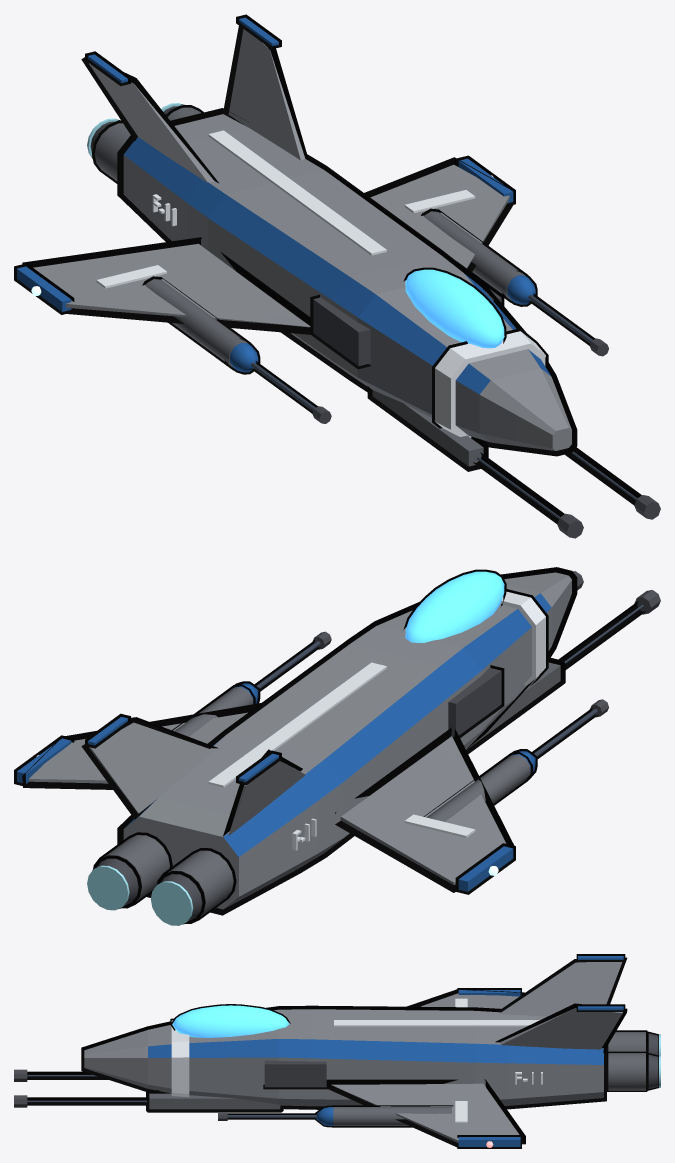
The model's file is Plane_FighterHeavy.fbx.
3 renders of one model, top to bottom at view 1: azimuth 30°, elevation 25°; view 2: azimuth 150°, elevation 25°; view 3: azimuth 270°, elevation 25°, orthographic. The views are drawn at different scales.
Visible parts, largest first — view 1: Hull, Wing-1, Wing1, Fin1, Canopy, Fin-1, NoseBand, Spine, Pod-1, GunHouse-1, Intake-1, Pod1 (+9 smaller); view 2: Hull, Wing-1, Fin1, Canopy, Wing1, Spine, Pod-1, Intake-1, Fin-1, Eng-1_Body, Eng1_Body, GunHouse-1 (+14 smaller); view 3: Hull, Wing1, Fin-1, Fin1, Canopy, GunHouse1, Pod1, Intake1, Eng1_Body, Spine, NoseBand, Wing-1 (+10 smaller).
Boxes of the visible parts, x1,y1,x2,y2 form: Hull: (117, 108, 577, 456); Wing-1: (22, 237, 310, 334); Wing1: (364, 157, 514, 271); Fin1: (223, 26, 308, 160); Canopy: (403, 267, 506, 348); Fin-1: (81, 57, 219, 183); NoseBand: (432, 328, 548, 437); Spine: (208, 130, 386, 255); Pod-1: (142, 276, 250, 370); GunHouse-1: (367, 386, 488, 471); Intake-1: (310, 294, 371, 369); Pod1: (421, 208, 527, 302); Hull: (117, 567, 577, 915); Wing-1: (335, 727, 514, 892); Fin1: (81, 717, 218, 819); Canopy: (403, 569, 506, 642); Wing1: (22, 703, 260, 789); Spine: (208, 662, 386, 787); Pod-1: (423, 752, 532, 821); Intake-1: (448, 665, 504, 740); Fin-1: (223, 749, 305, 836); Eng-1_Body: (156, 848, 236, 923); Eng1_Body: (93, 832, 172, 908); GunHouse-1: (464, 658, 565, 754); Hull: (81, 1005, 606, 1109); Wing1: (326, 1079, 525, 1147); Fin-1: (497, 957, 627, 1016); Fin1: (495, 1003, 627, 1052); Canopy: (170, 1004, 290, 1037); GunHouse1: (146, 1090, 283, 1112); Pod1: (332, 1105, 453, 1127); Intake1: (263, 1060, 327, 1089); Eng1_Body: (607, 1051, 647, 1091); Spine: (334, 1020, 539, 1026); NoseBand: (170, 1018, 189, 1097); Wing-1: (407, 989, 524, 1008).
Size of the model in its own units: 9.08 by 3.17 by 16.
